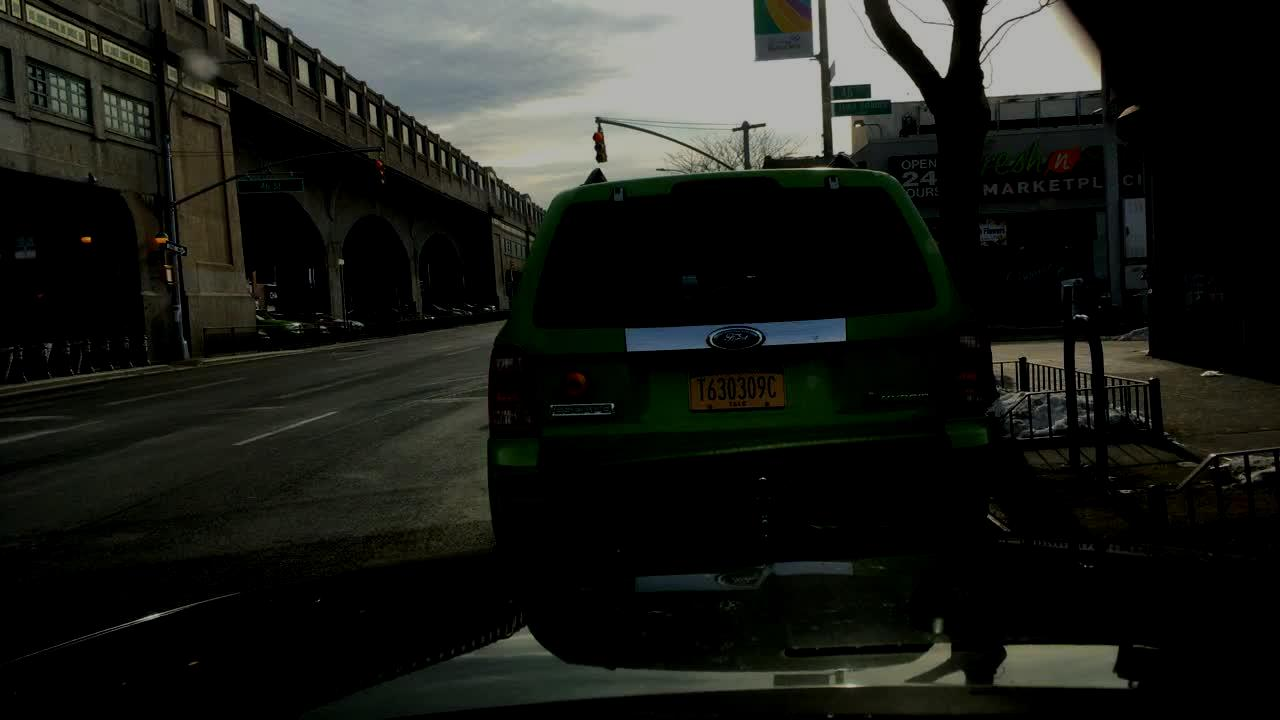ford: (700, 317, 768, 361)
